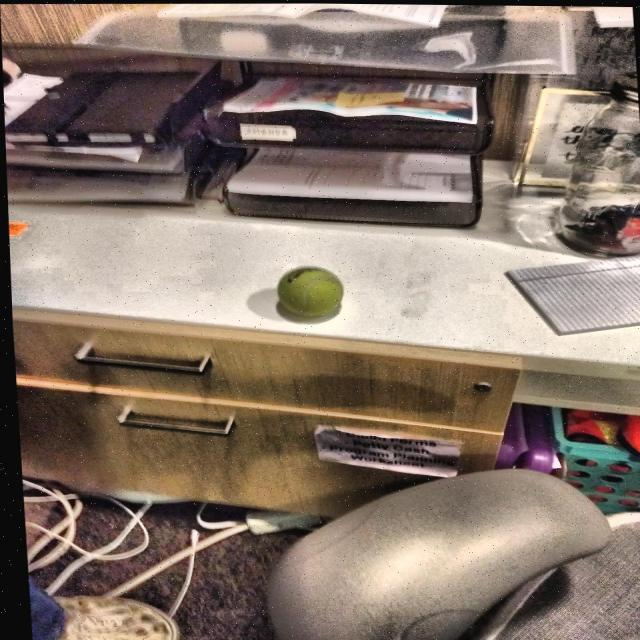tennis-ball: (272, 264, 350, 318)
